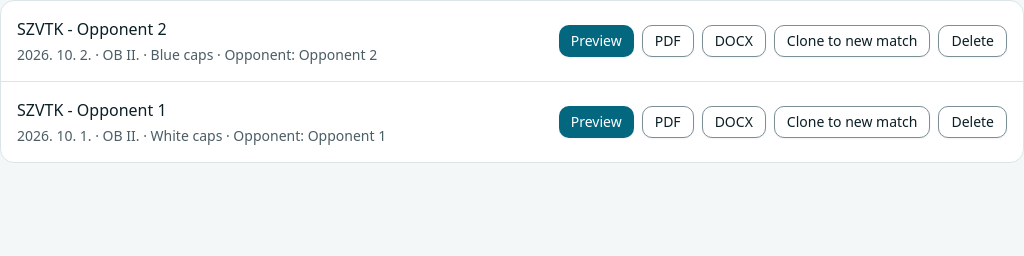
Test: SavedLineups › says a previewed lineup is gone when the server answers 404
The image size is (1024, 256).
Click the button with aria-label "Preview SZVTK - Opponent 2" at (596,41), box [559,25,634,57]
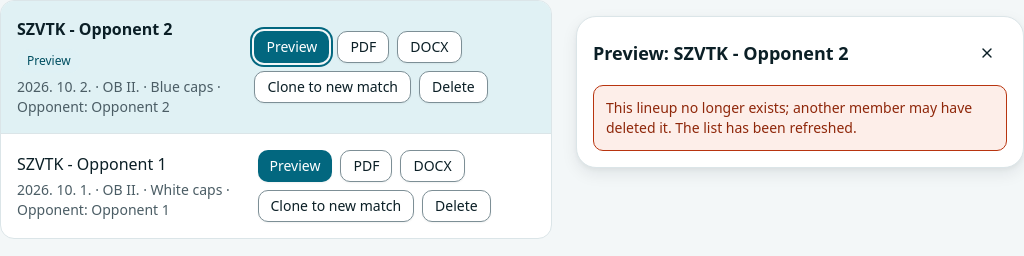
Now the message shows "This lineup no longer exists", box [606,98,972,137]
